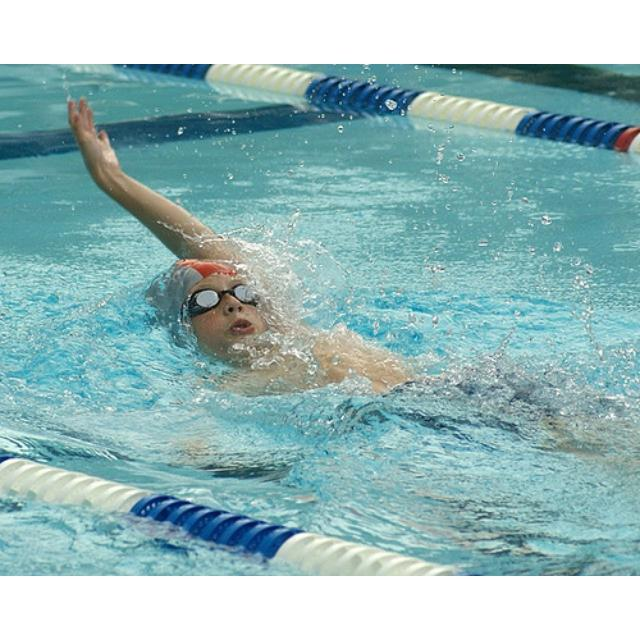human: (66, 95, 439, 402)
